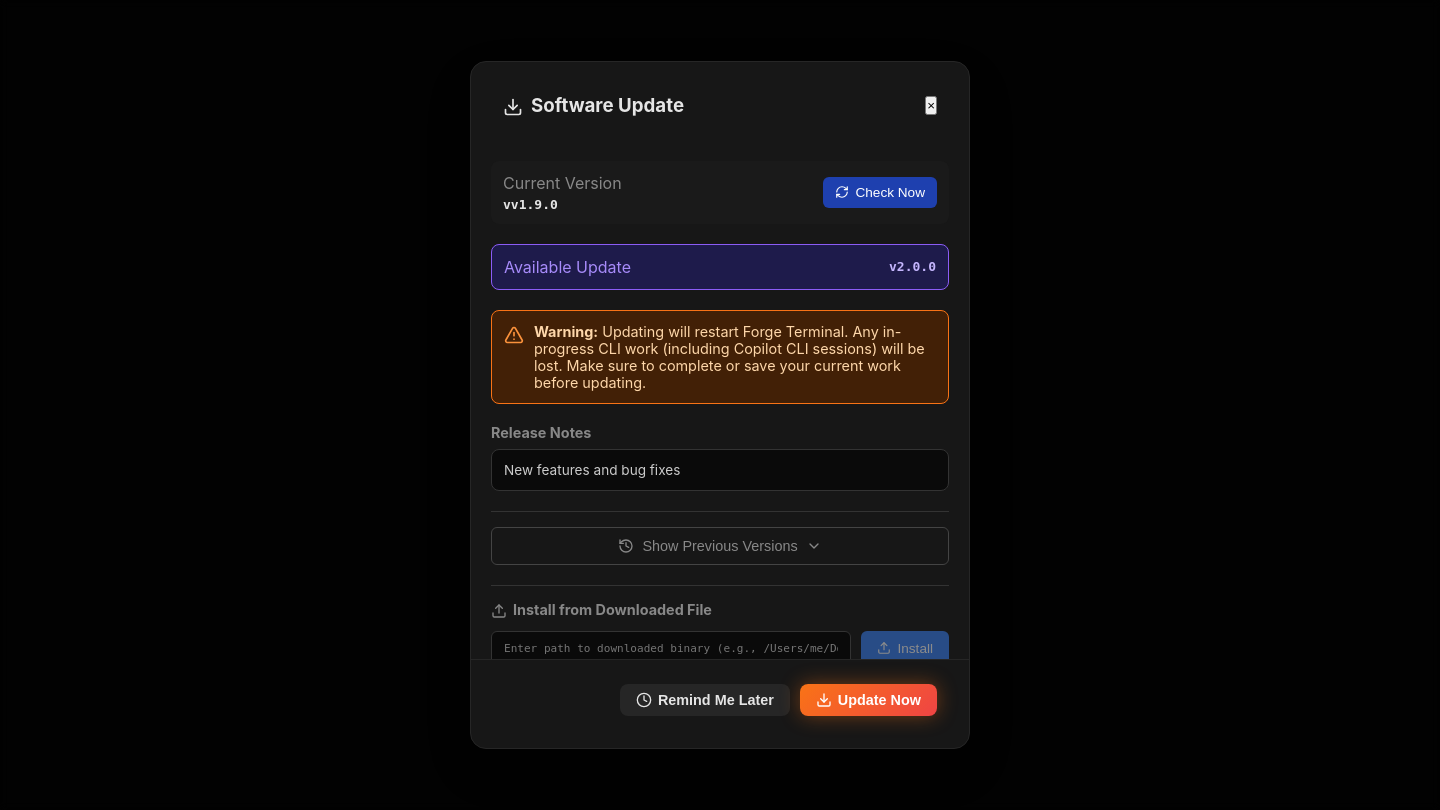
UpdateModal - Server Death Detection & Auto-Refresh › Server Death Detection › should display "Server restarting..." message to user
Click the button "Update Now" at (868, 700), box left=800, top=684, right=937, bottom=716
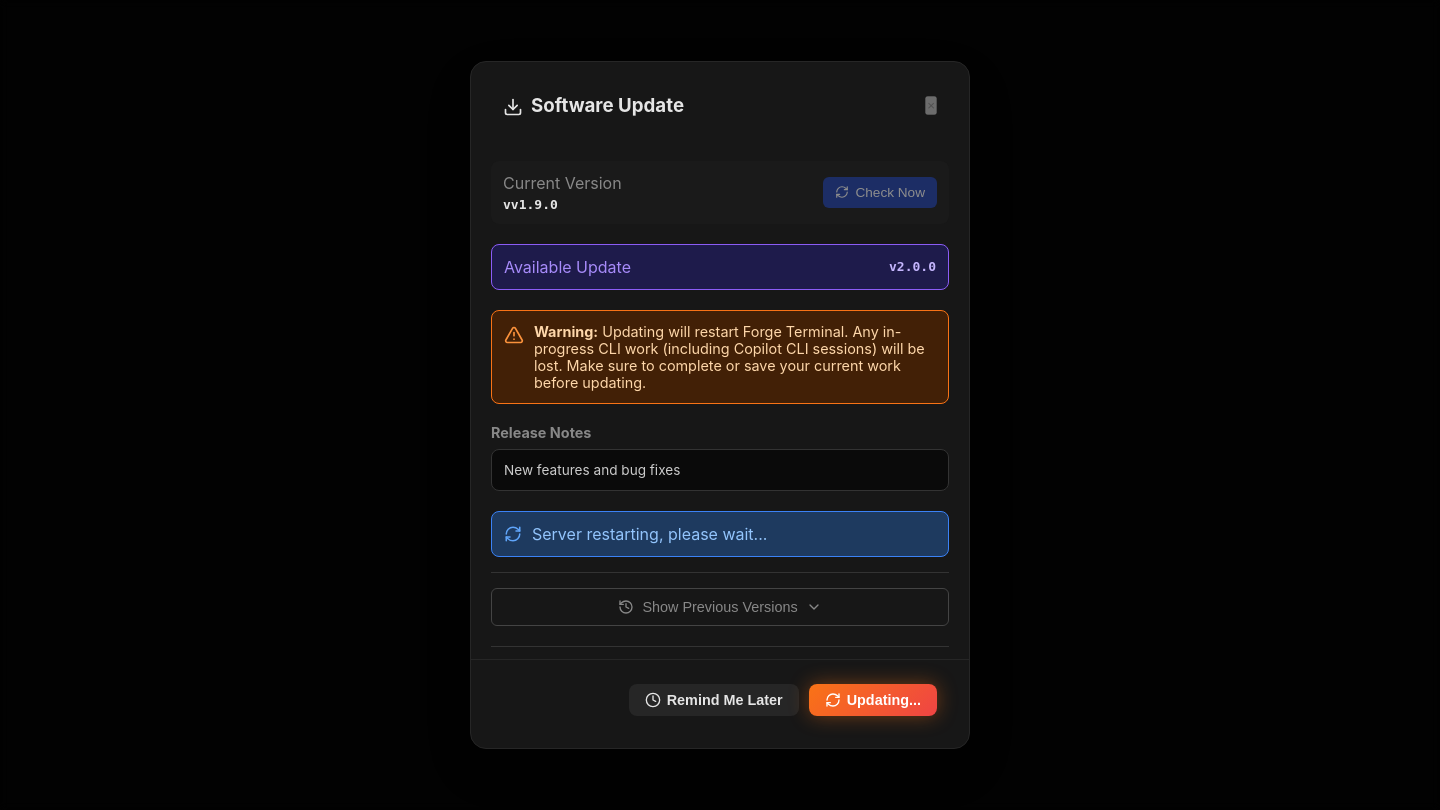
Expected: the text "Server restarting, please wait..." is shown, left=532, top=524, right=767, bottom=544
